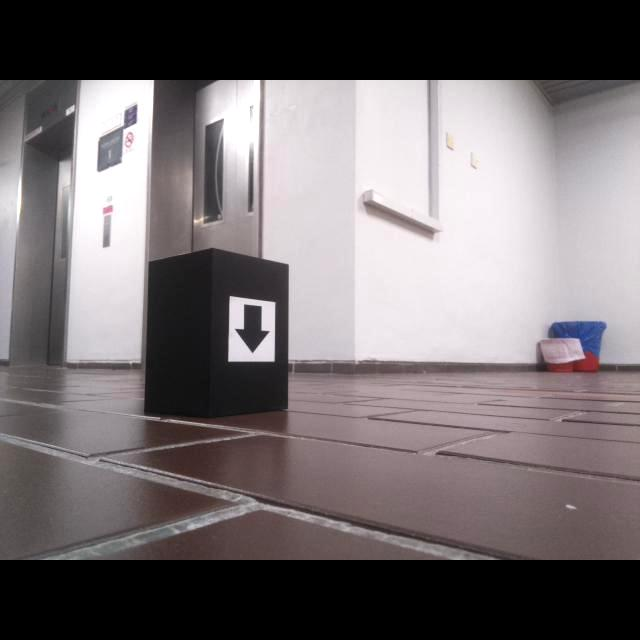DOWN: (233, 303, 271, 354)
